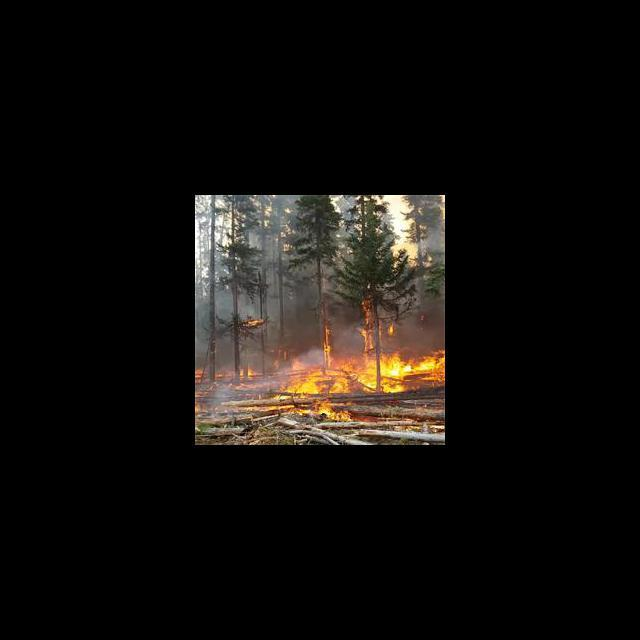Fire: (196, 322, 445, 423)
